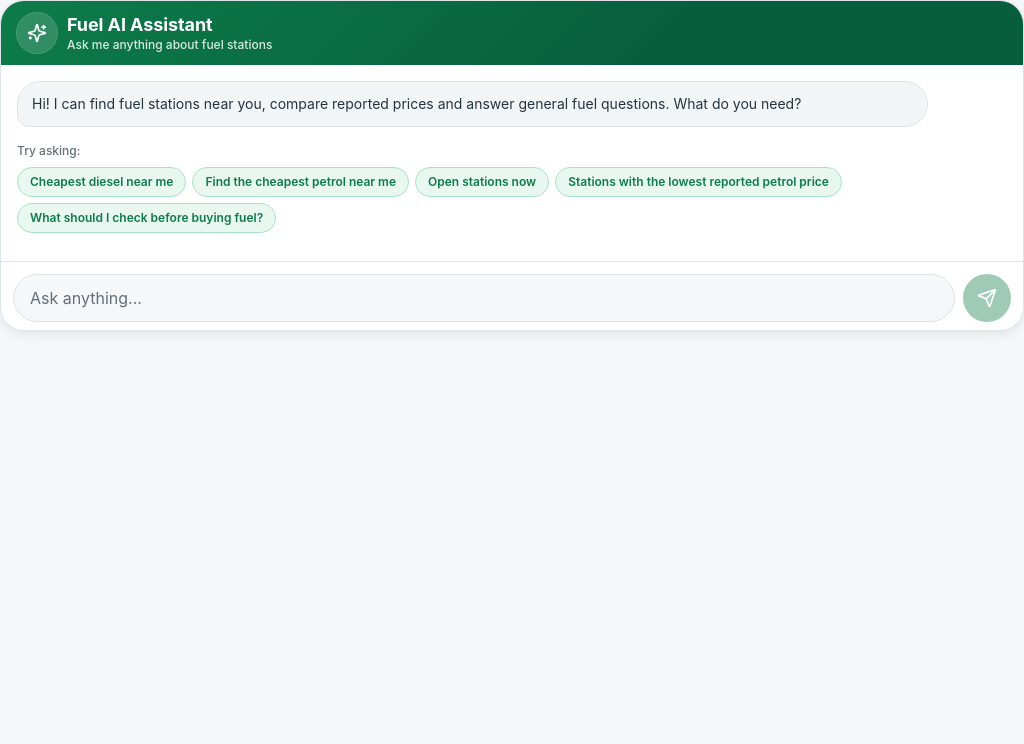
Test case: result honesty › renders imported/unverified labels unchanged and never invents a price
This screenshot has width=1024, height=744.
Type "cheapest petrol" into the field named "Ask Fuel AI".
click(484, 298); type("cheapest petrol")  # box x1=13 y1=274 x2=955 y2=322
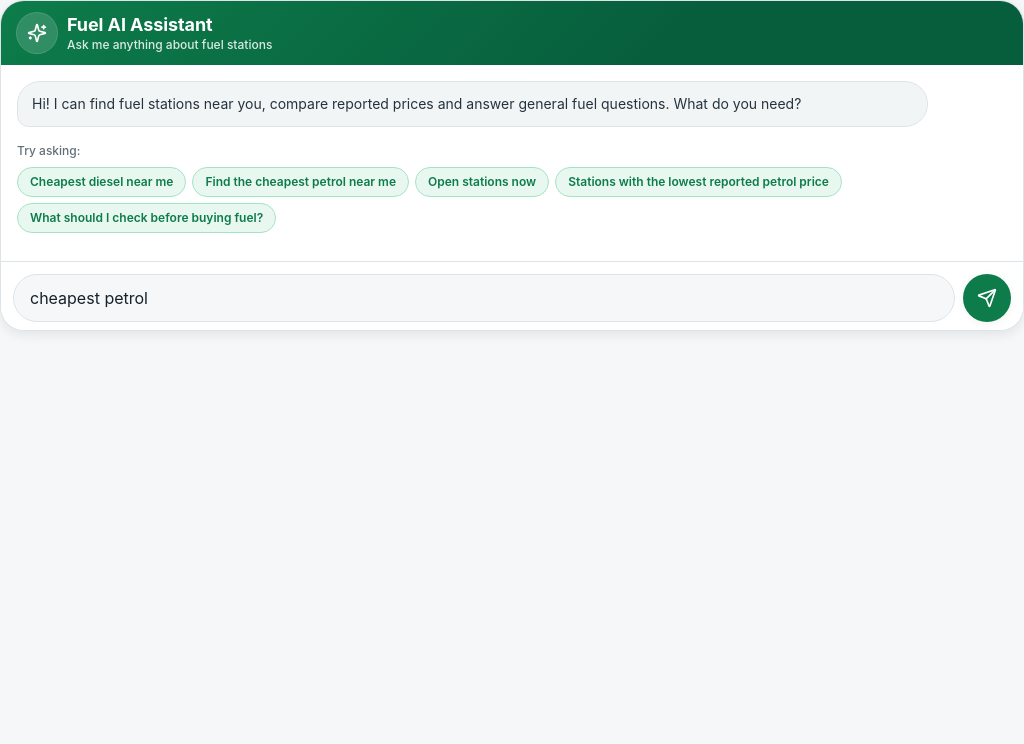
Click the button named "ask fuel ai".
click(987, 298)  # box x1=963 y1=274 x2=1011 y2=322
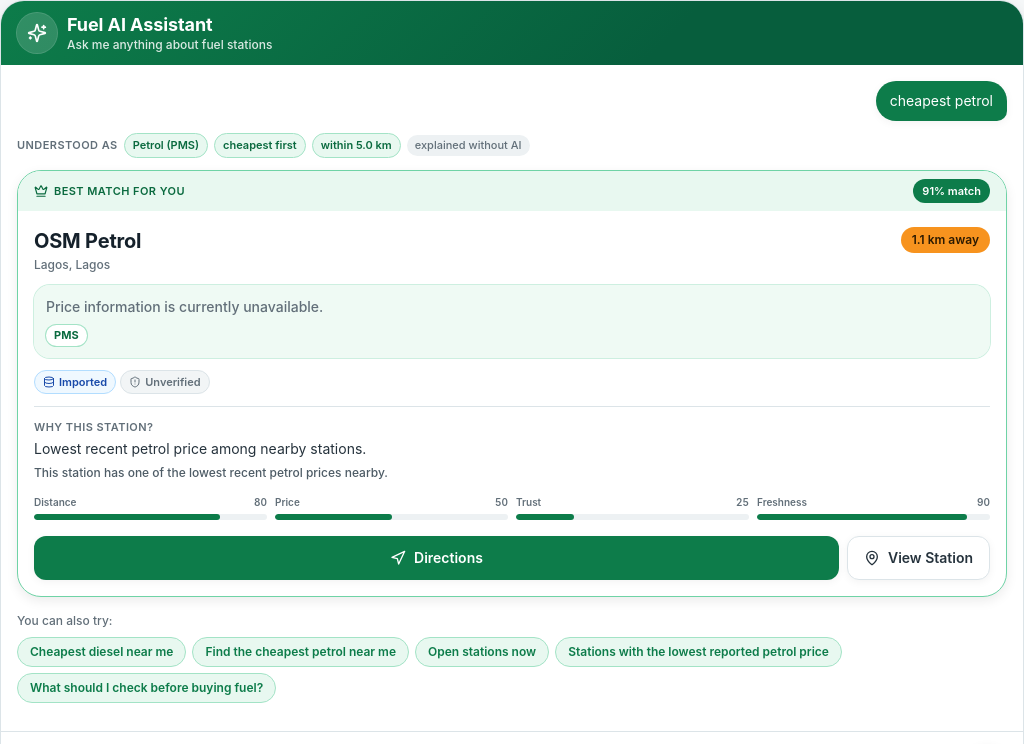
expect the element with test id "ai-top-recommendation" is shown: met, box x1=17 y1=170 x2=1007 y2=596
expect the element with test id "station-data-source" reads "Imported": met, box x1=59 y1=374 x2=107 y2=388
expect the element with test id "station-verification-status" reads "Unverified": met, box x1=145 y1=374 x2=200 y2=388
